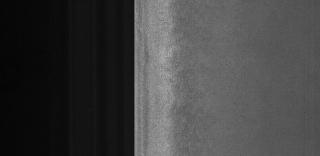silk spot: (176, 45, 214, 143)
